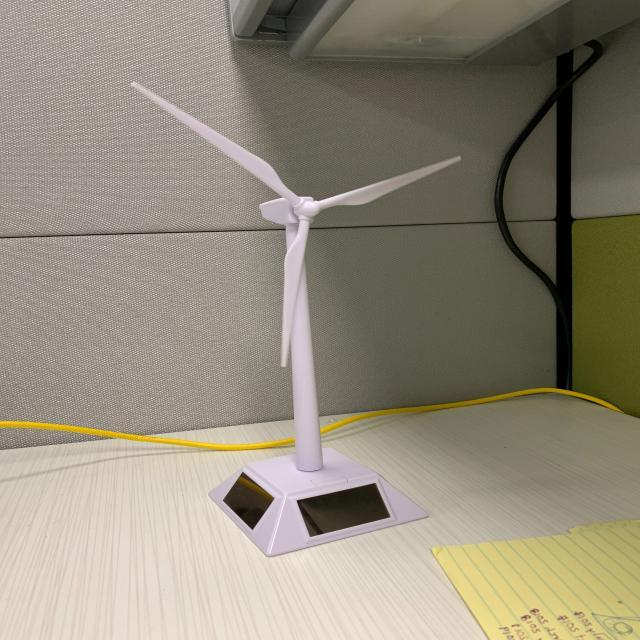solid-blade: (131, 83, 300, 204), (317, 156, 461, 209), (281, 218, 310, 366)
